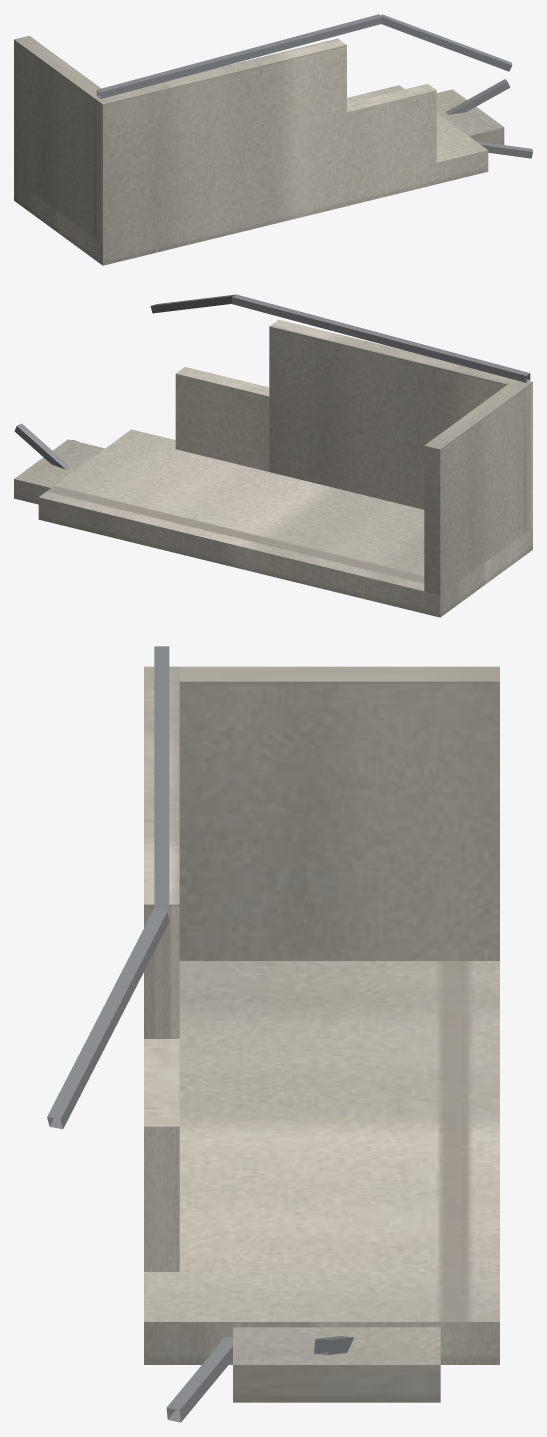
Rendered from debris_tokyo_balcony_slab.glb.
The picture shows the model from 3 angles, top to bottom: view 1: azimuth 30°, elevation 25°; view 2: azimuth 150°, elevation 25°; view 3: azimuth 270°, elevation 25°; orthographic projection. The views are drawn at different scales.
Parts seen in each view (by area): view 1: debris_tokyo_balcony_slab; view 2: debris_tokyo_balcony_slab; view 3: debris_tokyo_balcony_slab.
Boxes of the visible parts, bbox=[...] form: debris_tokyo_balcony_slab: bbox=[14, 14, 532, 265]; debris_tokyo_balcony_slab: bbox=[14, 294, 532, 617]; debris_tokyo_balcony_slab: bbox=[47, 646, 499, 1422].
Bounding box in the file's own units: 3.52 × 1.35 × 1.53.
Materials: 1 (1 with a texture image).
